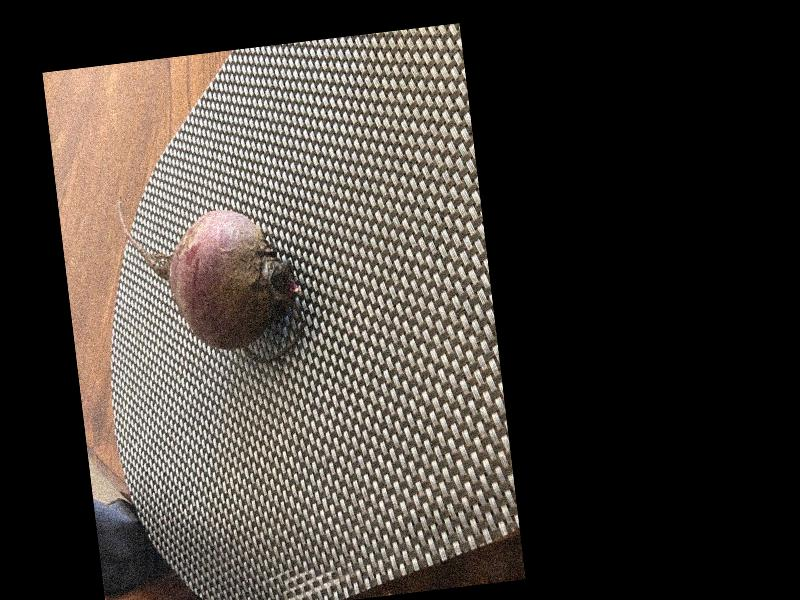Beet: (117, 178, 309, 379)
